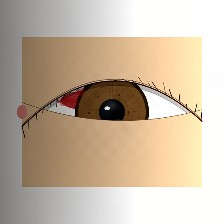hemorrhage_spot: (51, 73, 120, 128)
